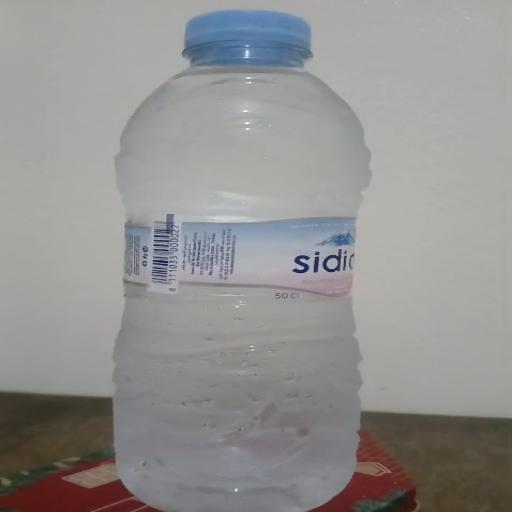bouteille conformite: (114, 5, 371, 511)
